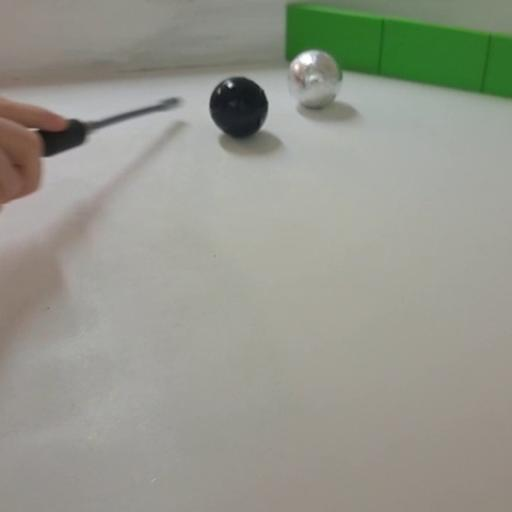alive: (288, 49, 342, 109)
dead: (209, 76, 269, 138)
